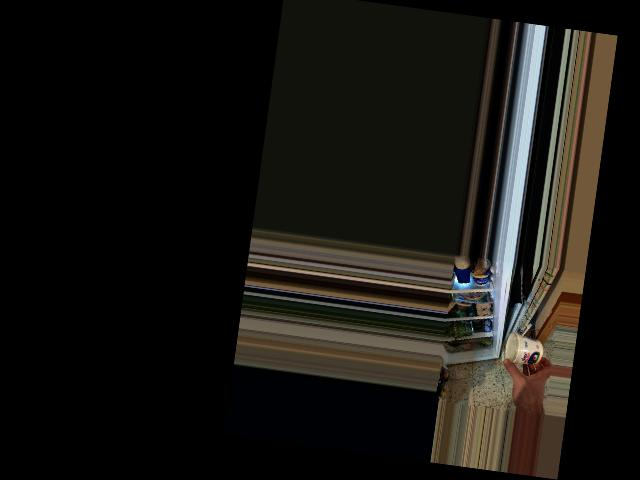cotage: (501, 331, 548, 370)
